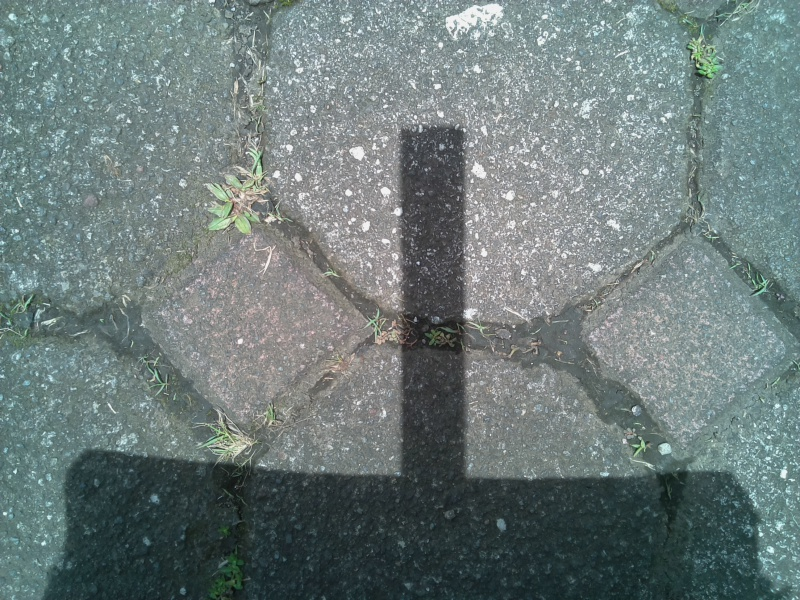Weed: (204, 144, 275, 242), (373, 314, 463, 356), (4, 288, 60, 346), (201, 412, 258, 467), (198, 549, 251, 599), (681, 32, 729, 85), (620, 422, 652, 463), (738, 265, 774, 298)
